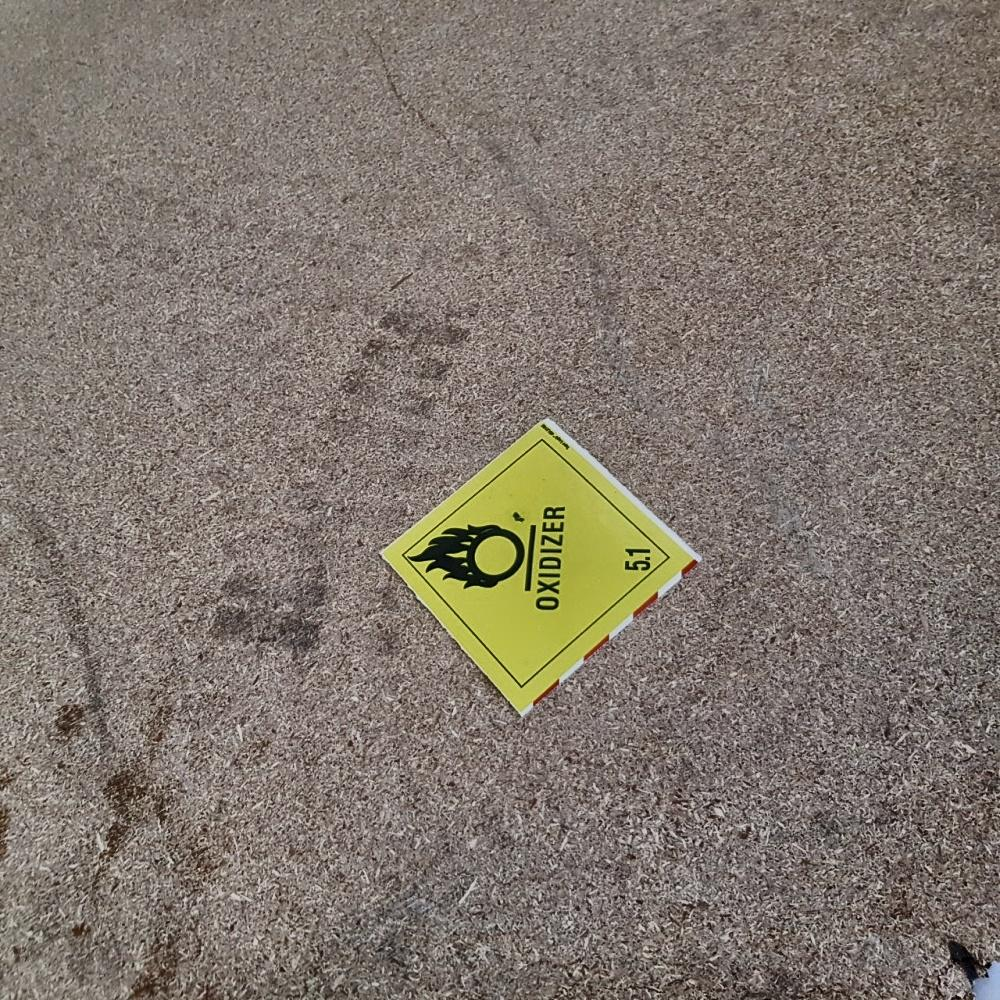oxidizer: (381, 422, 696, 718)
